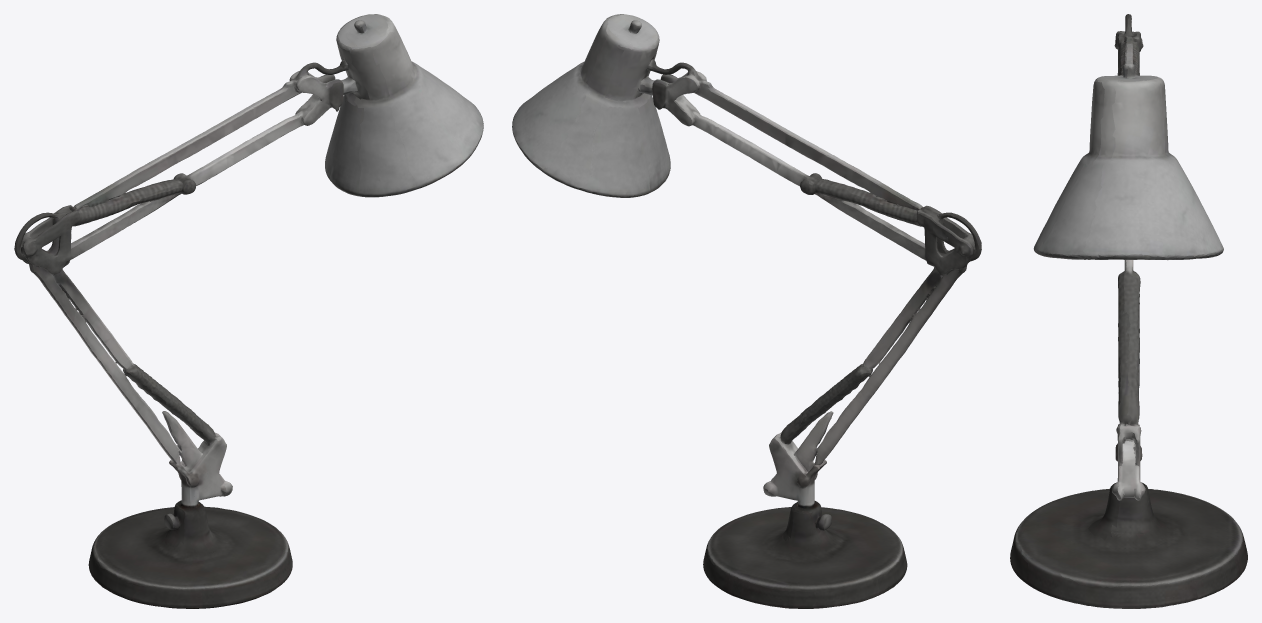
Rendered from parts.glb.
The picture shows the model from 3 angles, left to right: view 1: azimuth 30°, elevation 25°; view 2: azimuth 150°, elevation 25°; view 3: azimuth 270°, elevation 25°; orthographic projection. The views are drawn at different scales.
Size of the model in its own units: 0.5213 by 0.55 by 0.1999.
5 materials, 5 textured.
